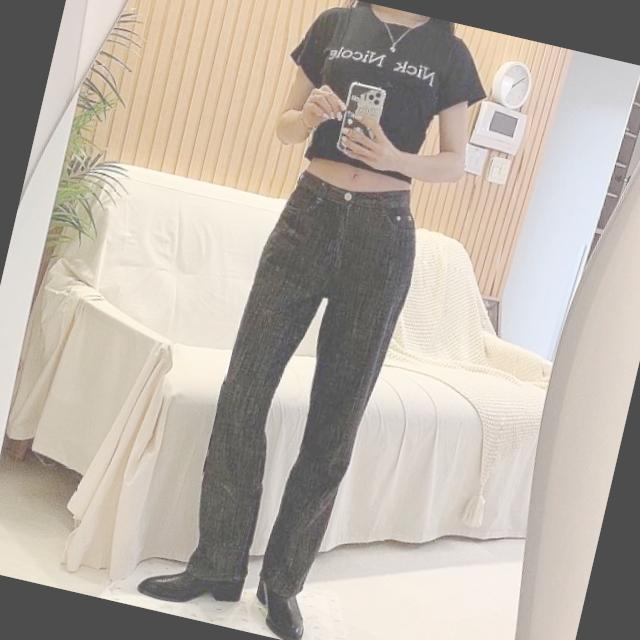denimpants: (175, 160, 431, 624)
shortsleeve: (263, 0, 497, 193)
